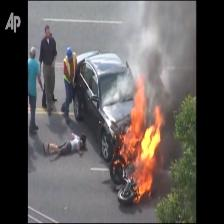fire: (120, 74, 166, 203)
